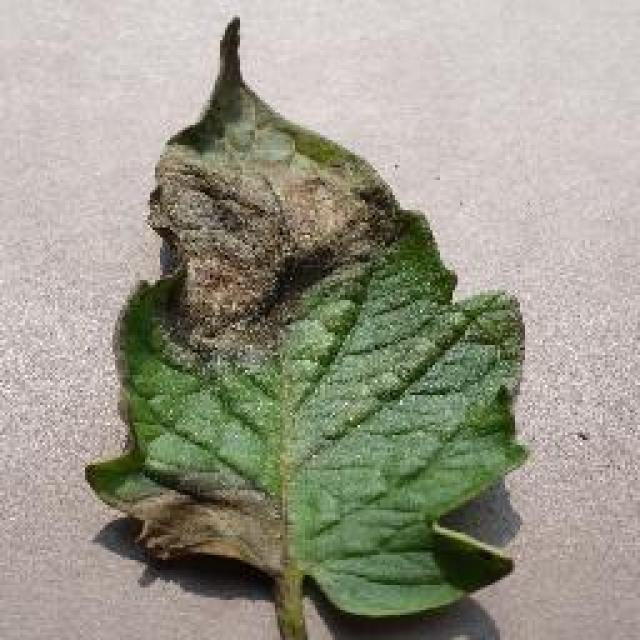Tomato Late Blight: (110, 95, 342, 623)
